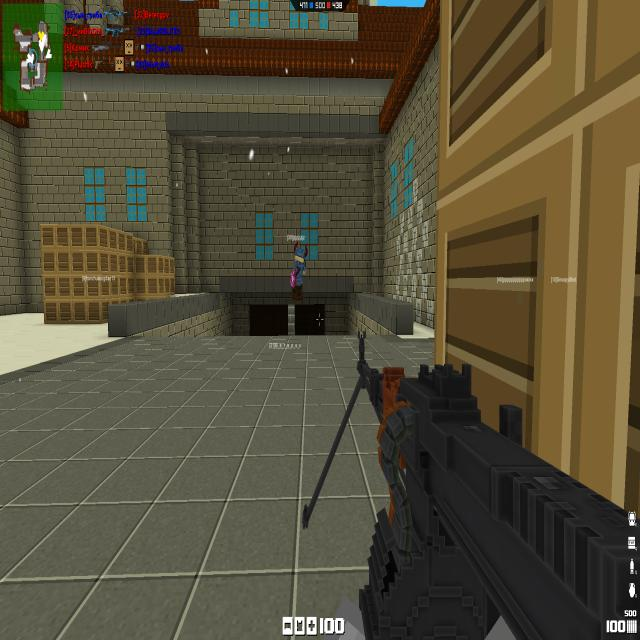player: (290, 240, 309, 292)
